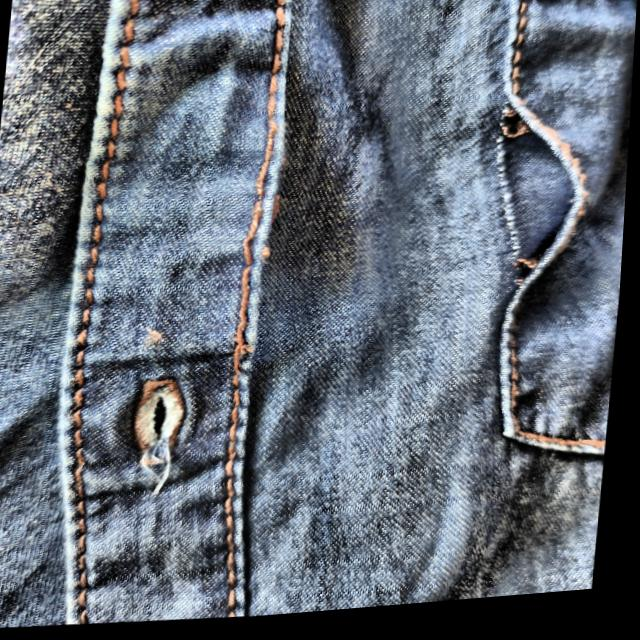seam: (472, 96, 605, 312)
